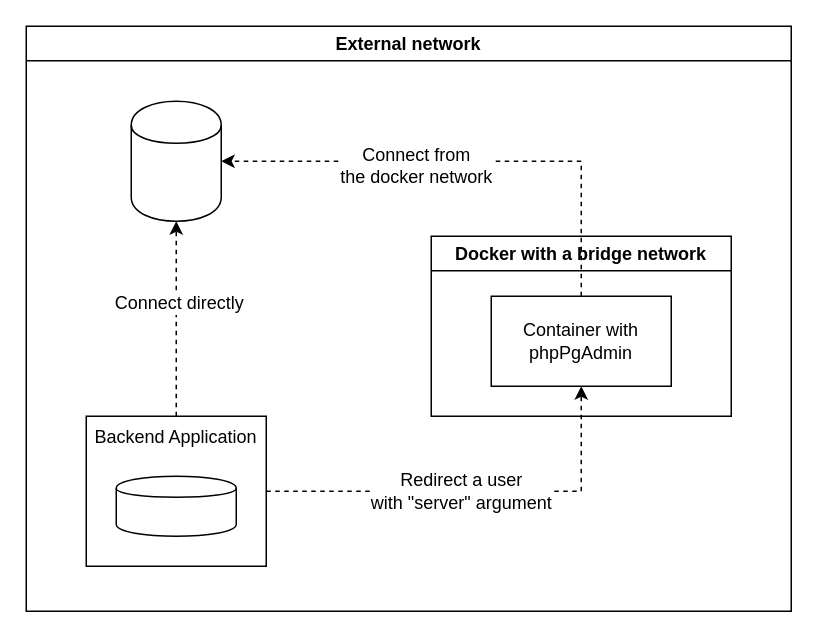
The diagram is 818 pixels wide and 638 high, and some of its shapes have lost their labels. The centre of each missing label's shape, as x and y in pixels:
"DB Config" belongs at pixel 175 505.
"PgSQL" belongs at pixel 175 160.
